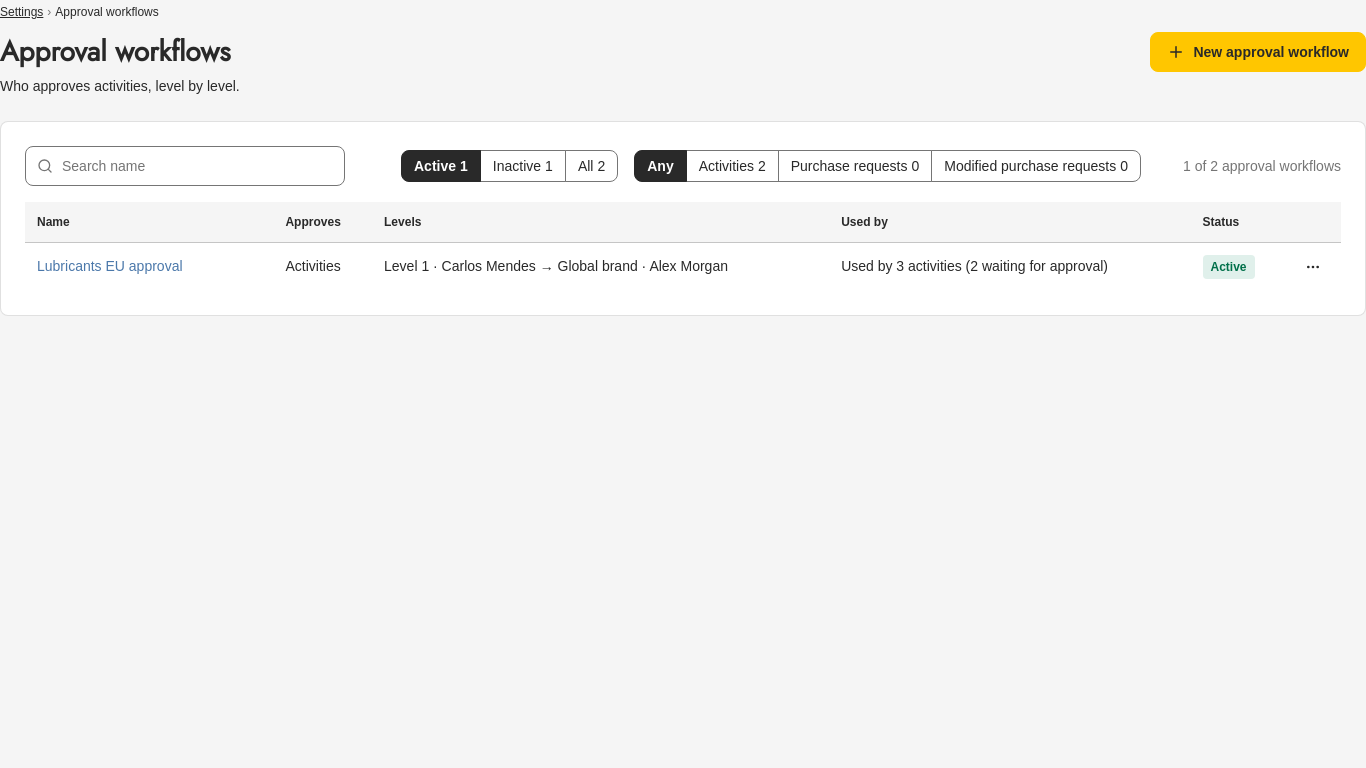
Test: ApprovalWorkflowsPage set inactive, reactivate and delete (feature 008, US4) › sets a workflow inactive after saying what changes (FR-007)
Check: the row "Lubricants EU approval" is shown, box [25,242,1341,290]
Click the button named "Actions for Lubricants EU approval" at x=1313, y=266, box [1297,250,1329,282]
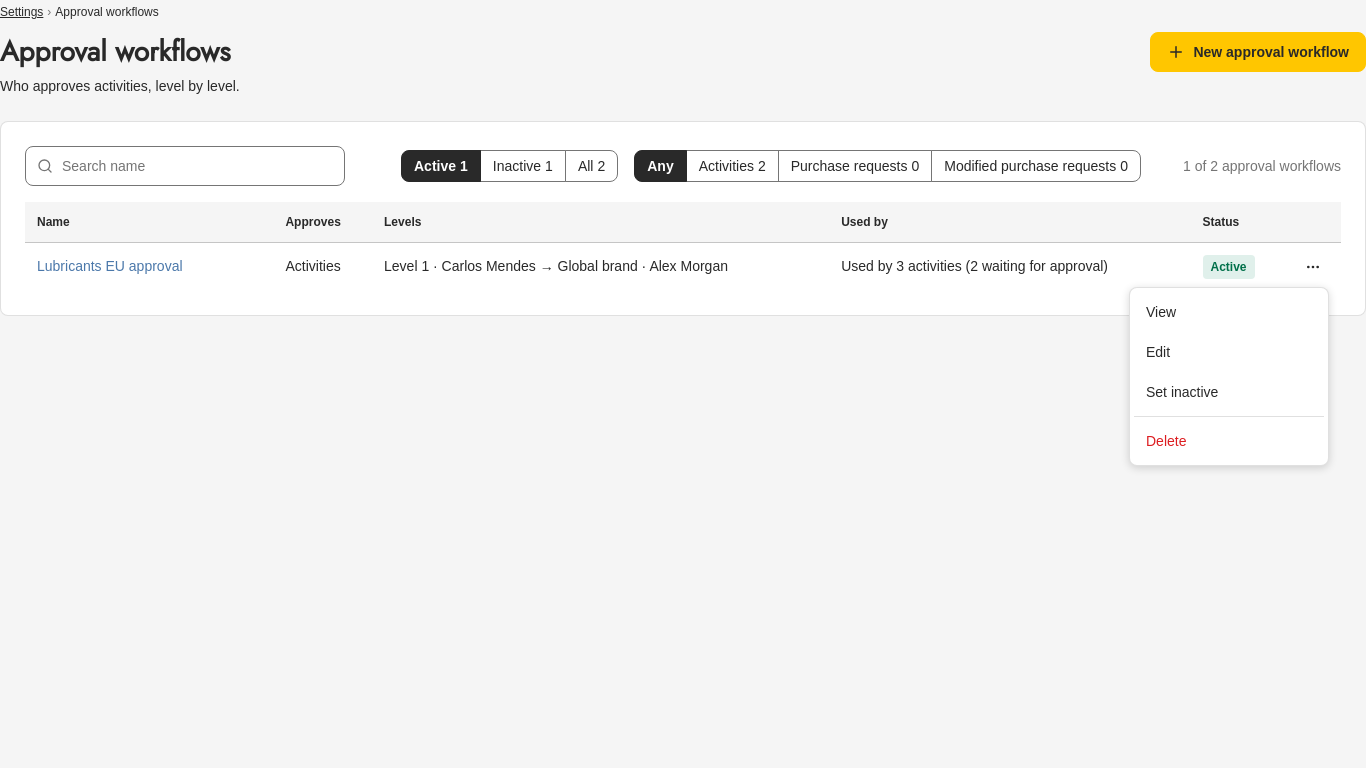
Click the menu item "Set inactive" at x=1182, y=392, box [1146,384,1218,400]
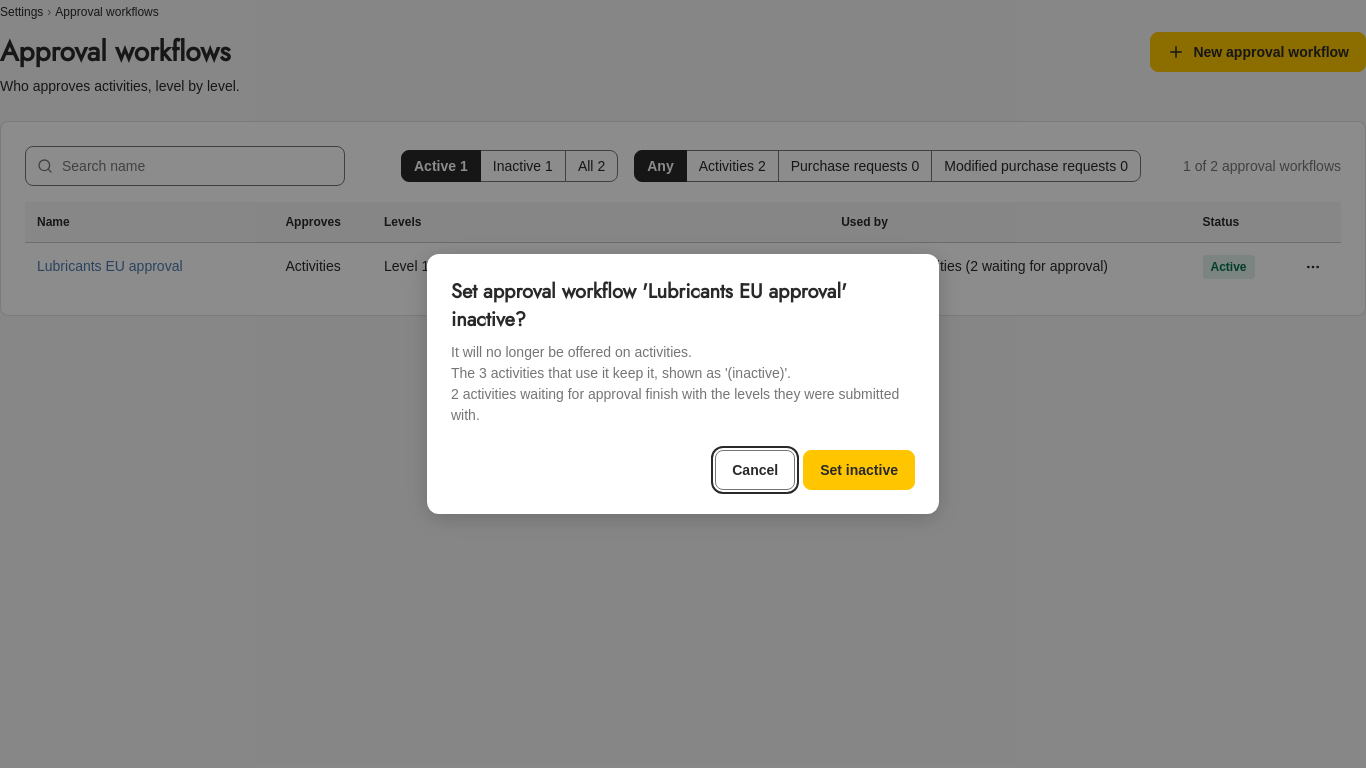
Check: the dialog "Set approval workflow 'Lubricants EU approval' inactive?" shows "It will no longer be offered on activities.", box [451,344,692,360]
Check: the dialog "Set approval workflow 'Lubricants EU approval' inactive?" shows "The 3 activities that use it keep it, shown as '(inactive)'.", box [451,365,791,381]
Check: the dialog "Set approval workflow 'Lubricants EU approval' inactive?" shows "2 activities waiting for approval finish with the levels they were submitted with.", box [451,386,899,423]
Click the button "Set inactive" at x=859, y=470, box [803,450,915,490]
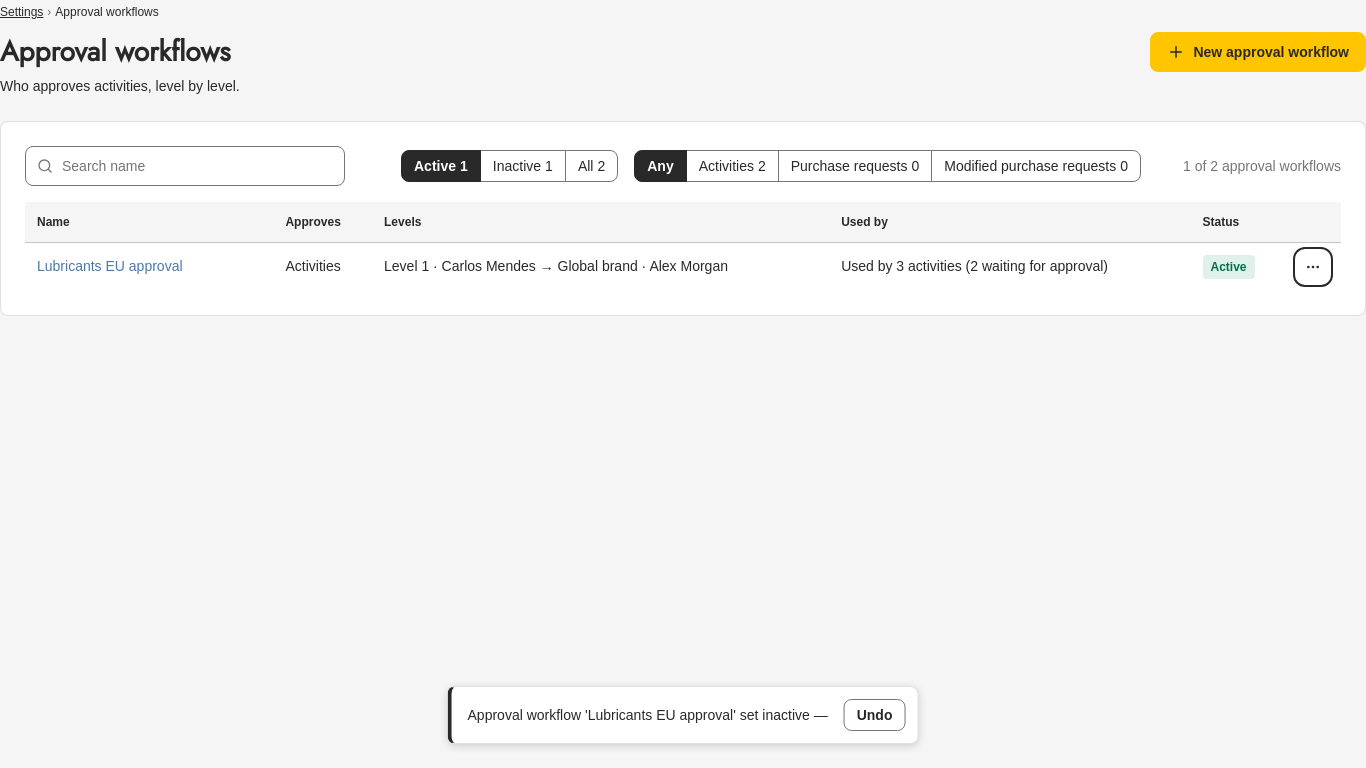
Check: the text "Approval workflow 'Lubricants EU approval' set inactive" is shown, box [468,706,814,722]
